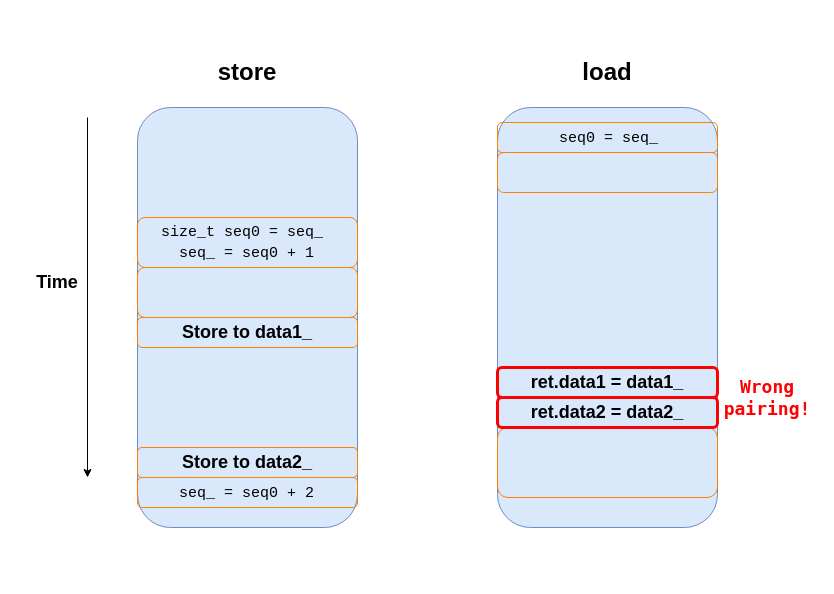
Some shapes in this 834 by 594 pixel diagram are drawn without their labels. Each missing label, with the box of its shape:
Load input.data1 and input.data2: (136, 266, 358, 318)
Now (seq0 == seq1) and (seq0 & 1 == 0), end the loop: (496, 426, 718, 498)
seq1 = seq_: (496, 152, 718, 192)
